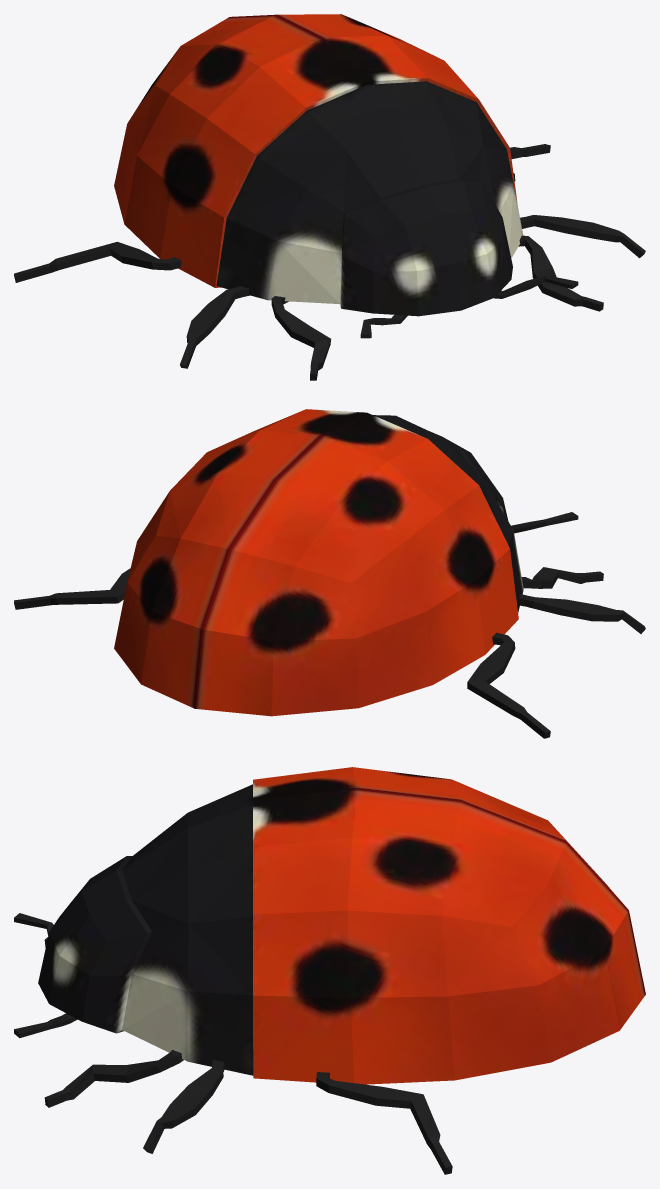
The model's file is ladybug.glb.
3 renders of one model, top to bottom at view 1: azimuth 30°, elevation 25°; view 2: azimuth 150°, elevation 25°; view 3: azimuth 270°, elevation 25°, orthographic. The views are drawn at different scales.
Visible parts, largest first — view 1: Node; view 2: Node; view 3: Node.
Part boxes in pixels (x1,y1,x2,y2): Node: [14, 14, 645, 380]; Node: [14, 409, 645, 738]; Node: [14, 767, 645, 1174].
Bounding box in the file's own units: 1.4 × 0.519 × 1.25.
Materials: 2 (1 with a texture image).
